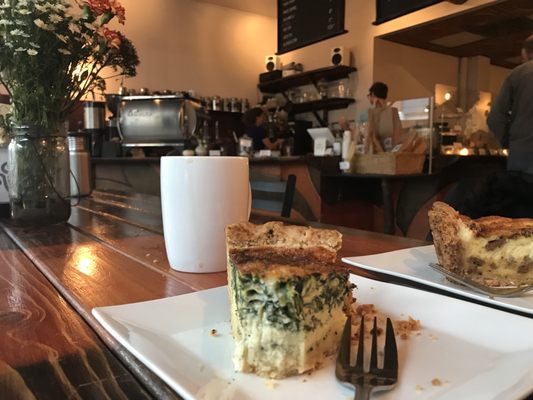burger: (334, 301, 400, 400)
pizza: (160, 155, 252, 274)
